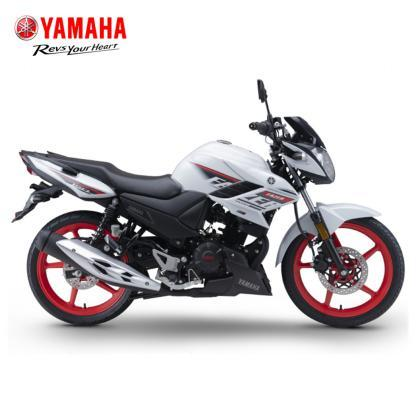Motorcycle: (15, 71, 411, 331)
